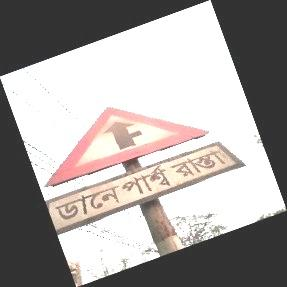Side-road-right: (41, 107, 247, 238)
